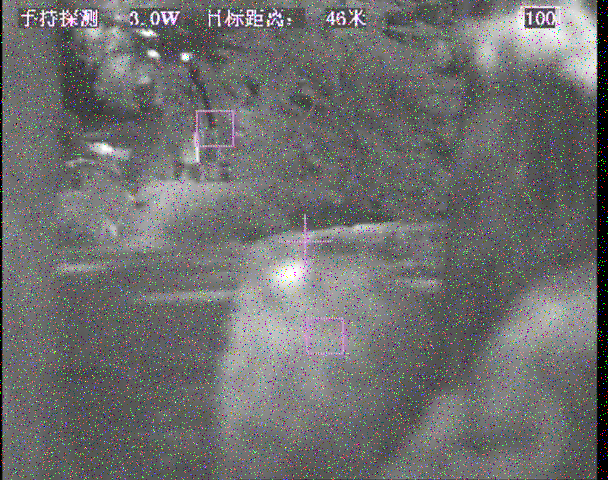my: (179, 51, 189, 62)
